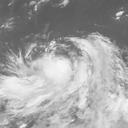cyclone: (9, 35, 101, 108)
